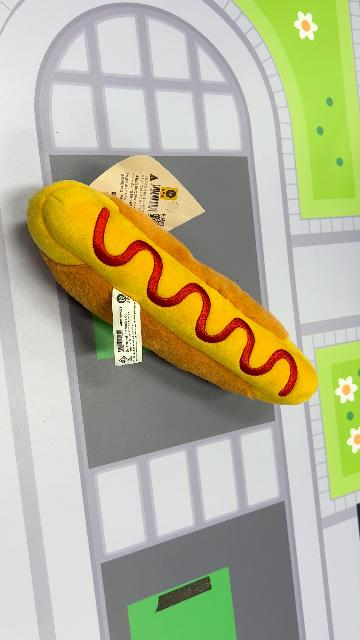hotdog: (26, 178, 320, 408)
